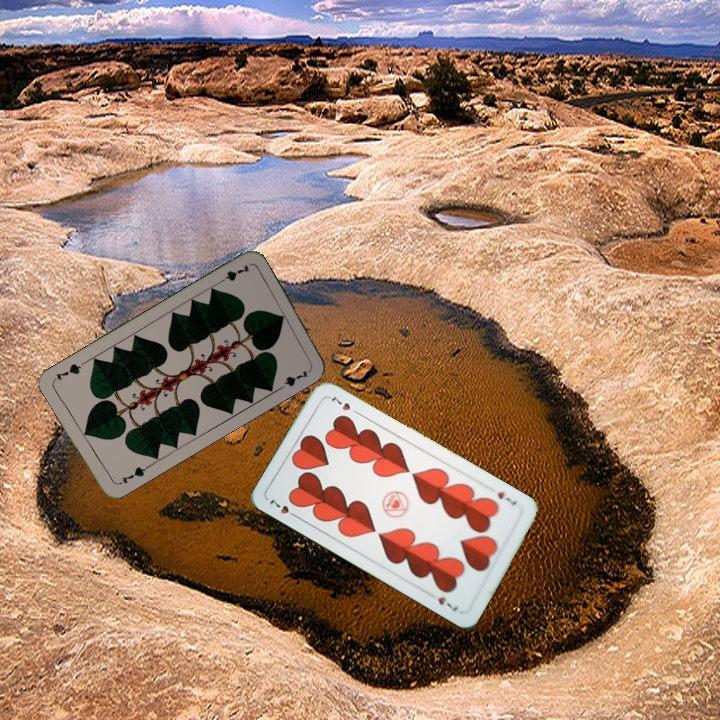G7: (214, 260, 252, 287), (113, 462, 151, 488)
H7: (265, 495, 301, 521), (494, 486, 519, 508)
